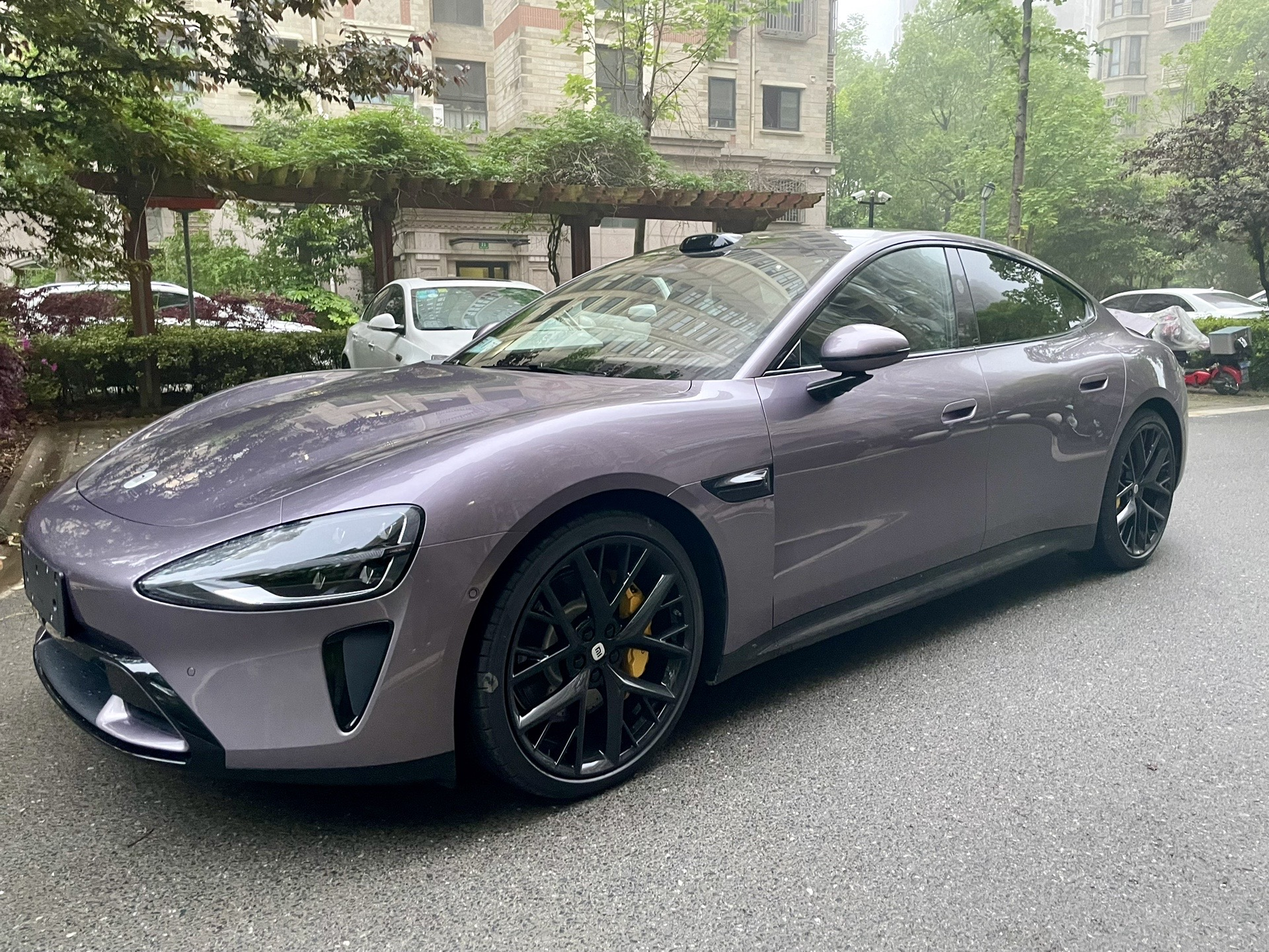su7: (49, 211, 1186, 796)
